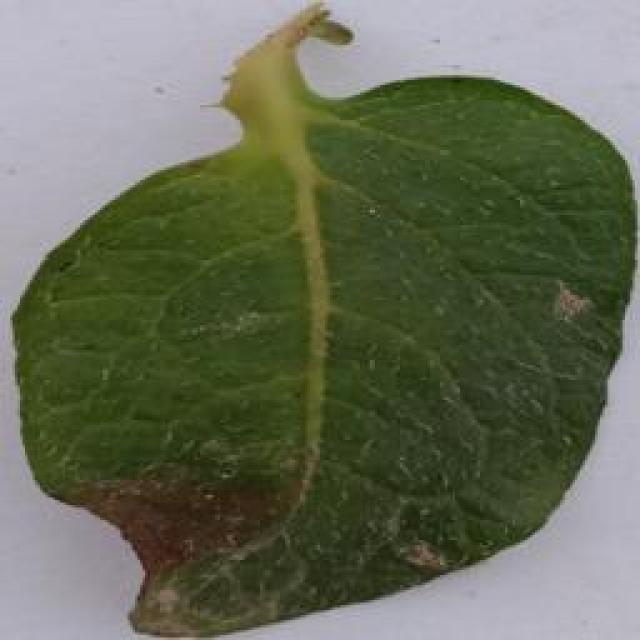Potato_Late_Blight: (11, 10, 625, 639)
